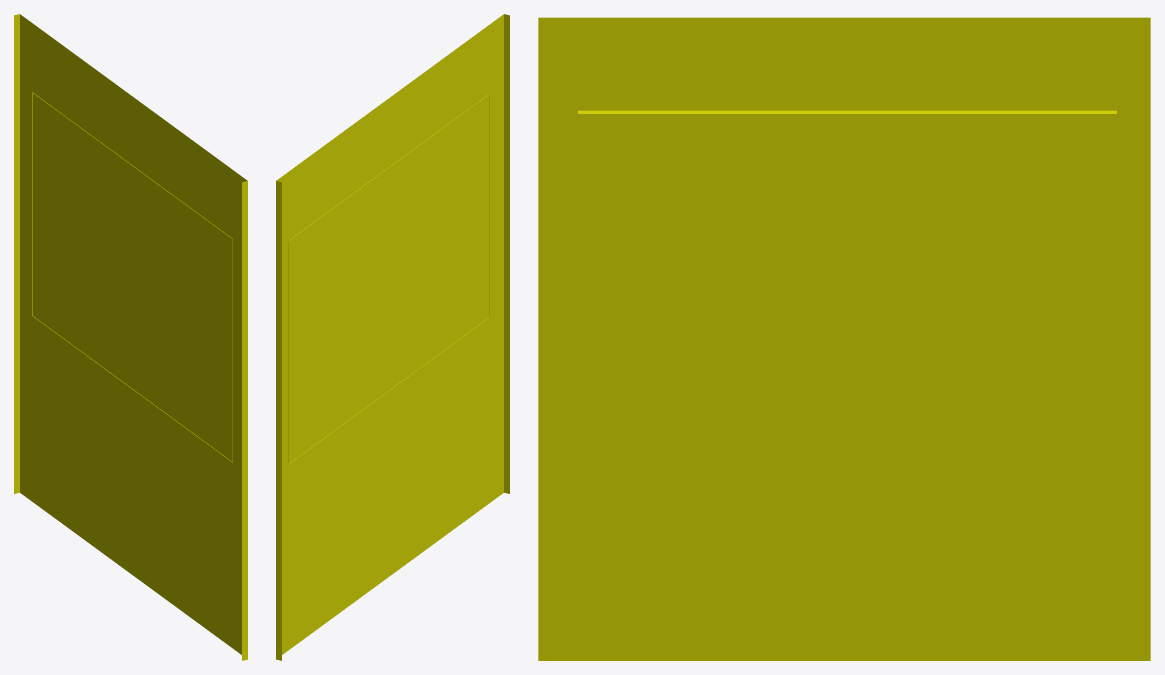
Rendered from CUADRO.fbx.
The picture shows the model from 3 angles, left to right: view 1: azimuth 30°, elevation 25°; view 2: azimuth 150°, elevation 25°; view 3: azimuth 270°, elevation 25°; orthographic projection. The views are drawn at different scales.
Visible parts, largest first — view 1: CUADRO; view 2: CUADRO; view 3: CUADRO.
Boxes of the visible parts, x1=… form: CUADRO: x1=14, y1=14, x2=247, y2=660; CUADRO: x1=276, y1=14, x2=509, y2=660; CUADRO: x1=538, y1=17, x2=1150, y2=660.
Bounding box in the file's own units: 0.0864 × 3.53 × 3.05.
